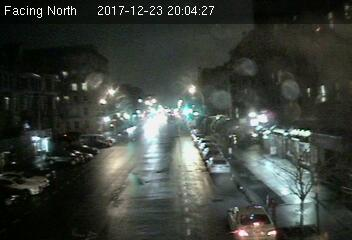car: (205, 153, 231, 173)
